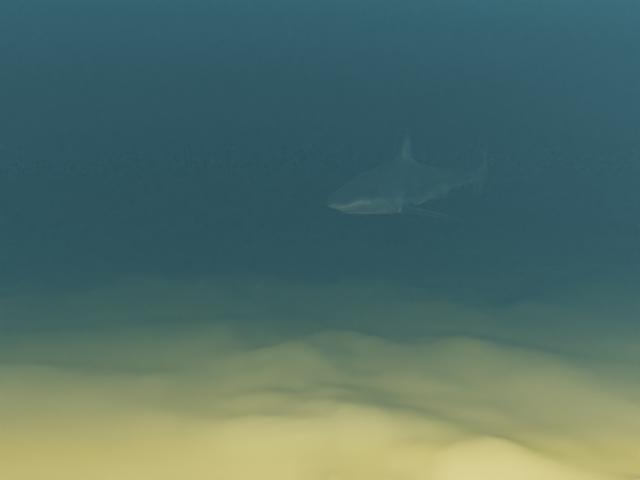Carribean Shark.001: (326, 130, 488, 221)
